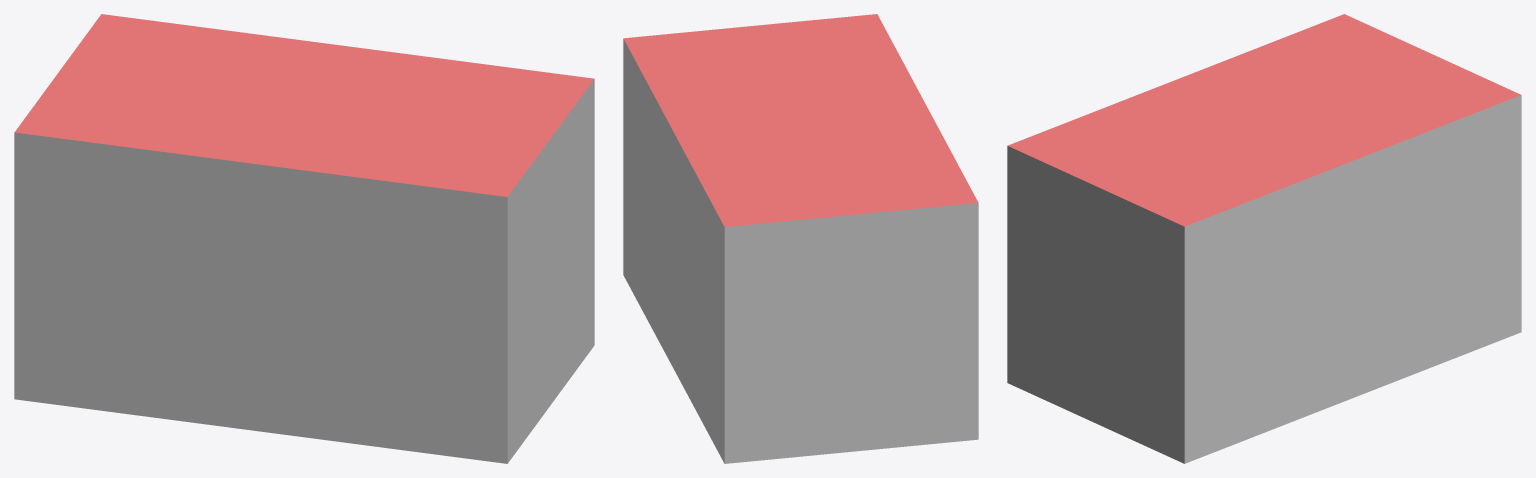
Rendered from ID_18802a7f-1e84-4461-8fe9-ffeb44387693.gltf.
3 views of the same model, side by side, from view 1: azimuth 30°, elevation 25°; view 2: azimuth 150°, elevation 25°; view 3: azimuth 270°, elevation 25° (orthographic). The views are drawn at different scales.
Parts seen in each view (by area): view 1: Z_UP; view 2: Z_UP; view 3: Z_UP.
Part boxes in pixels (bbox=[...]): Z_UP: bbox=[14, 14, 594, 463]; Z_UP: bbox=[623, 14, 978, 463]; Z_UP: bbox=[1007, 14, 1521, 463].
Bounding box in the file's own units: 25.07 × 13.05 × 25.62.
